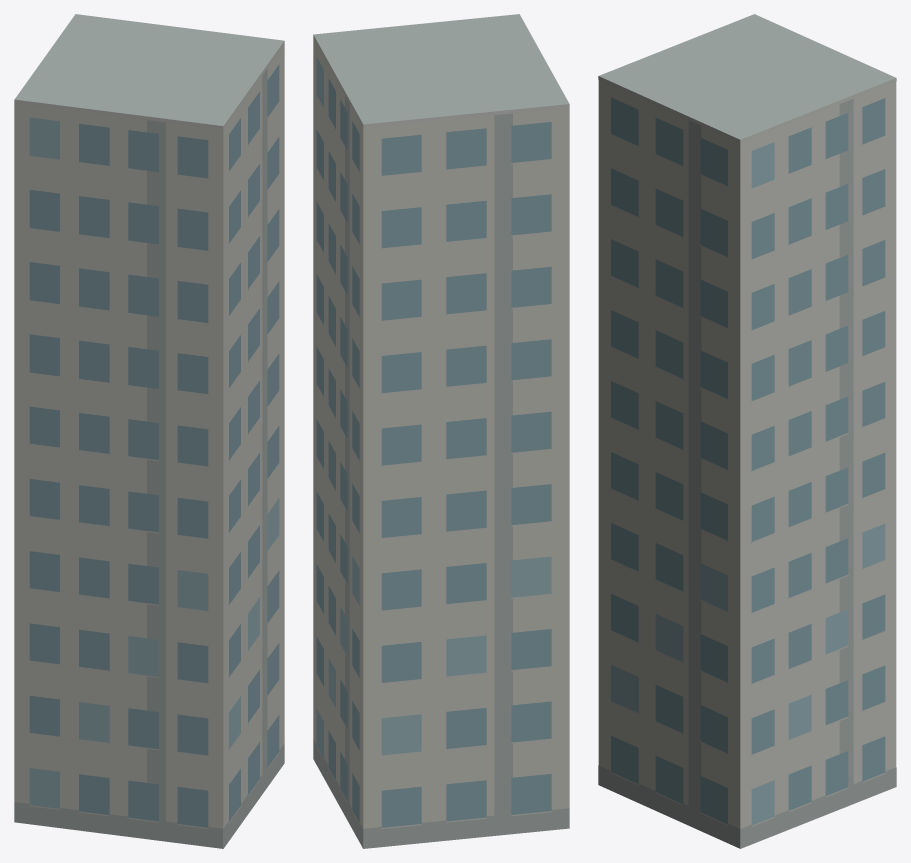
File: residential-35e02459-c321-45de-b91b-6115c1bad628.glb
3 renders of one model, left to right at view 1: azimuth 30°, elevation 25°; view 2: azimuth 150°, elevation 25°; view 3: azimuth 270°, elevation 25°, orthographic. The views are drawn at different scales.
Visible parts, largest first — view 1: residential-35e02459-c321-45de-b91b-6115c1bad628.tmp; view 2: residential-35e02459-c321-45de-b91b-6115c1bad628.tmp; view 3: residential-35e02459-c321-45de-b91b-6115c1bad628.tmp.
Part boxes in pixels (left/top/right/bottom): residential-35e02459-c321-45de-b91b-6115c1bad628.tmp: left=14, top=14, right=284, bottom=848; residential-35e02459-c321-45de-b91b-6115c1bad628.tmp: left=313, top=14, right=569, bottom=848; residential-35e02459-c321-45de-b91b-6115c1bad628.tmp: left=598, top=14, right=896, bottom=848.
Bounding box in the file's own units: 17.9 × 47 × 17.91.
